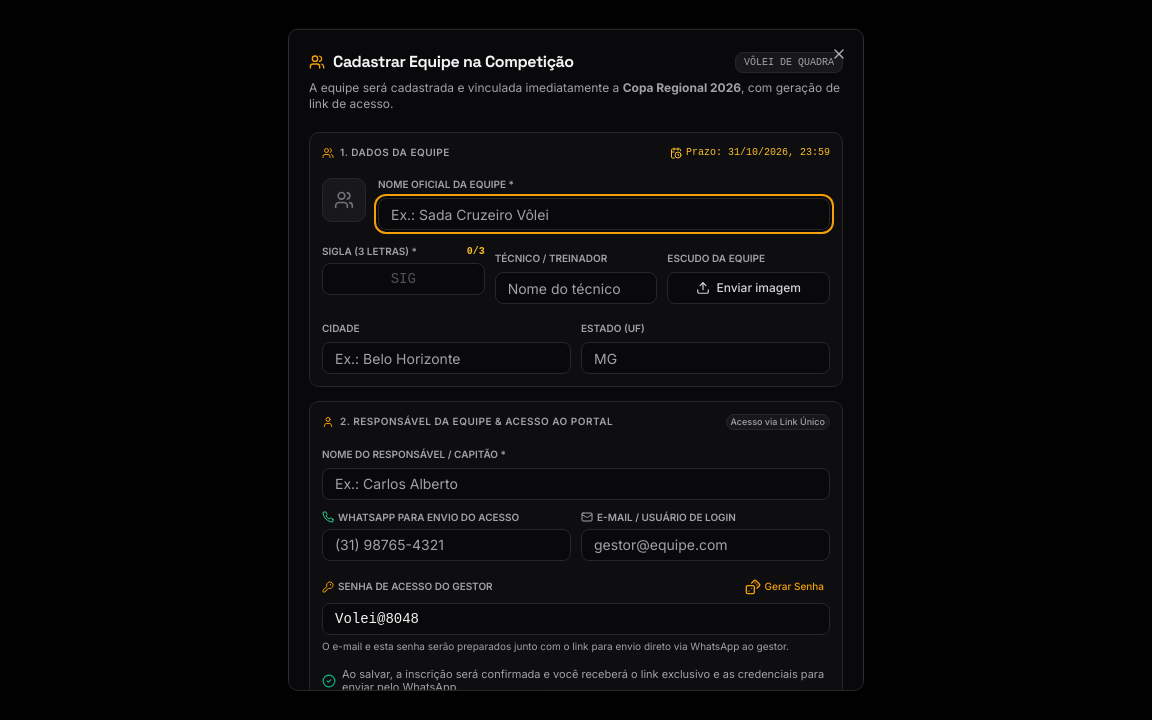
Test: RegisterTeamInCompetitionDialog — Melhorias de UX e Resolução de Bloqueio › gera automaticamente a sigla (3 letras) a partir do nome da equipe
This screenshot has width=1152, height=720.
// Digita "divoleiu"
Type "divoleiu" into the field labelled "Nome Oficial da Equipe *".
click(604, 214); type("divoleiu")  # box [378, 198, 830, 230]
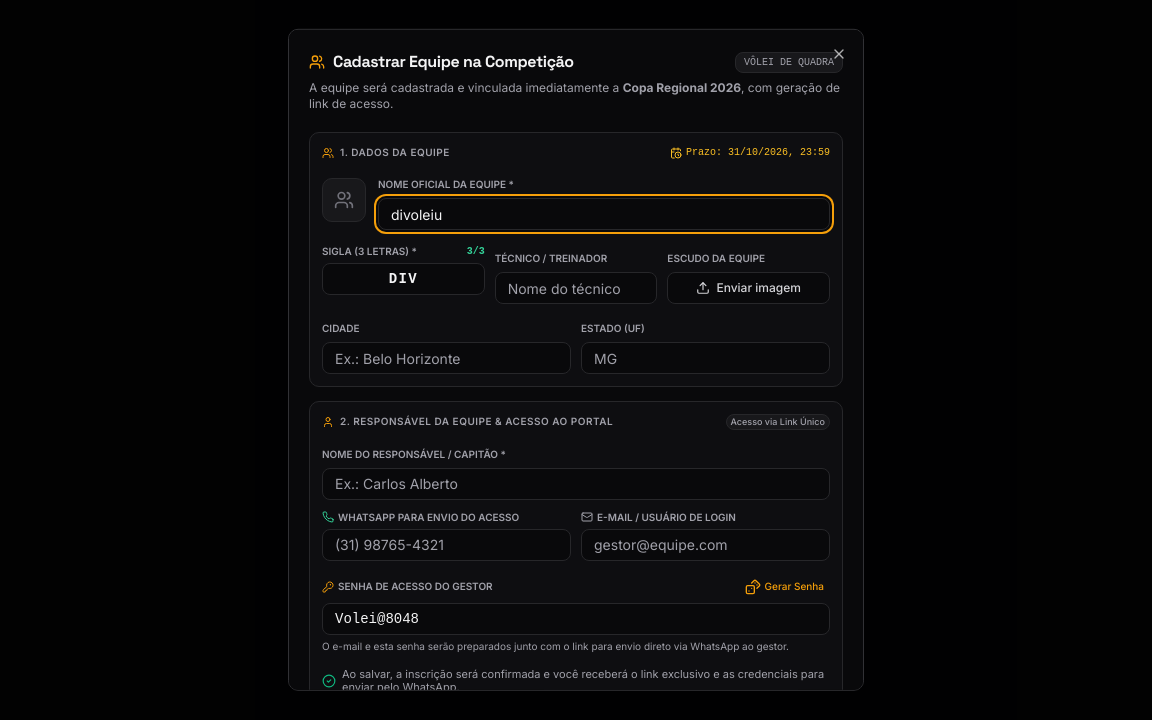
Result: the field labelled "Sigla (3 Letras) * 3/3" holds "DIV" at [322, 263, 485, 295]
Result: the text "3/3" is shown at [467, 244, 485, 259]
